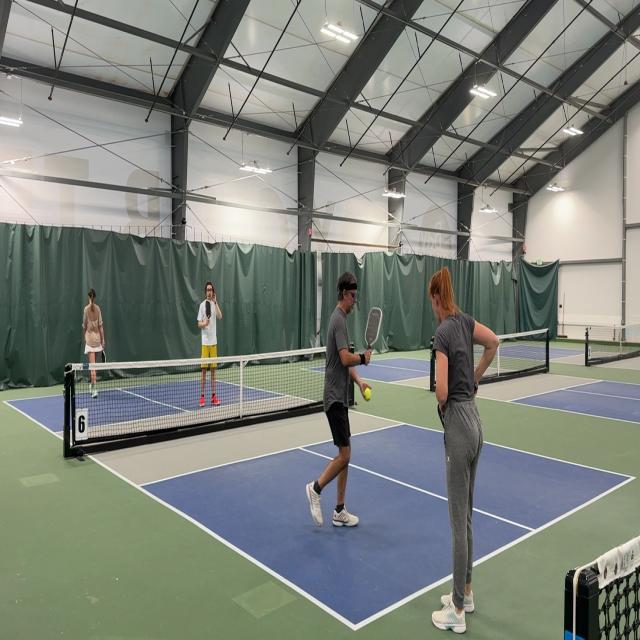ball: (364, 387, 372, 401)
